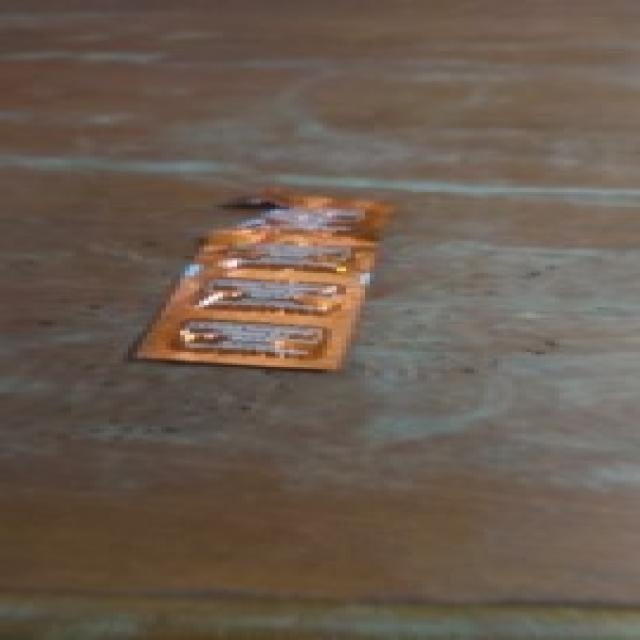Cacat: (130, 184, 396, 374)
Kemasan: (206, 189, 341, 250)
